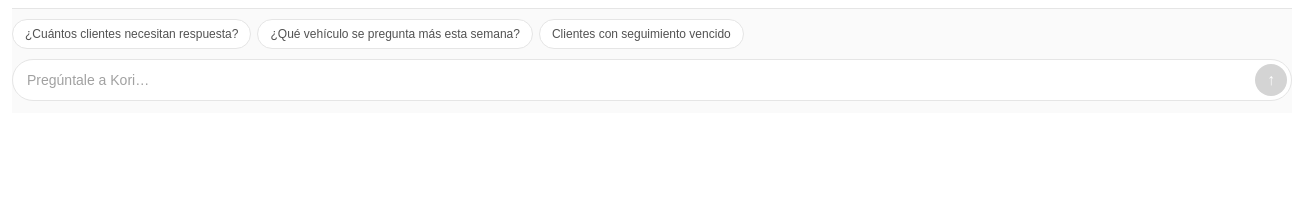
it: KoriChatDock › shows a safe error message when Kori can't answer, never a raw error code
Type "¿Cuál es el sentido de la vida?" into the field with placeholder "Pregúntale a Kori…" at (637, 80), box [27,70,1247,90]
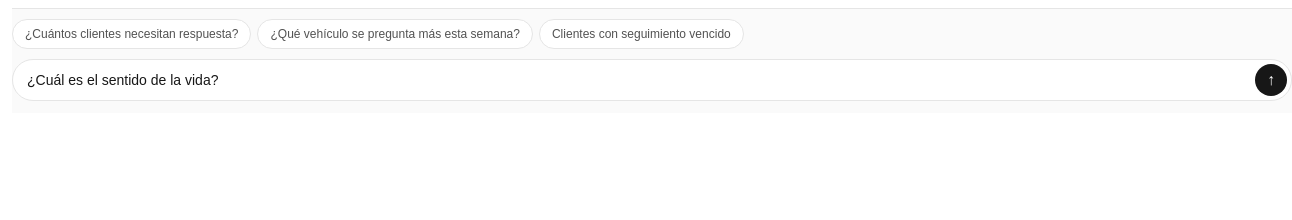
Click the button named "Enviar pregunta" at (1271, 80), box [1255,64,1287,96]
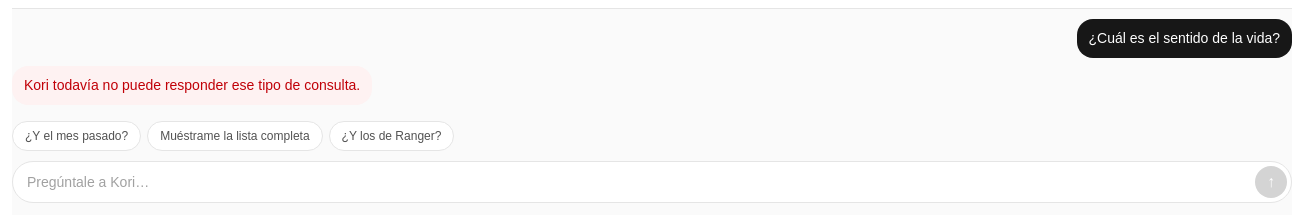
Check: the text "Kori todavía no puede responder ese tipo de consulta." is shown, box [12,66,372,105]
